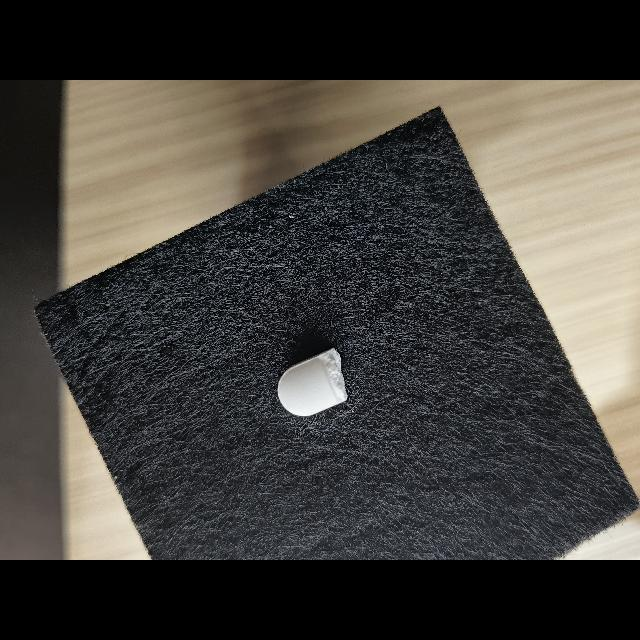Chipped Pill: (278, 347, 348, 416)
